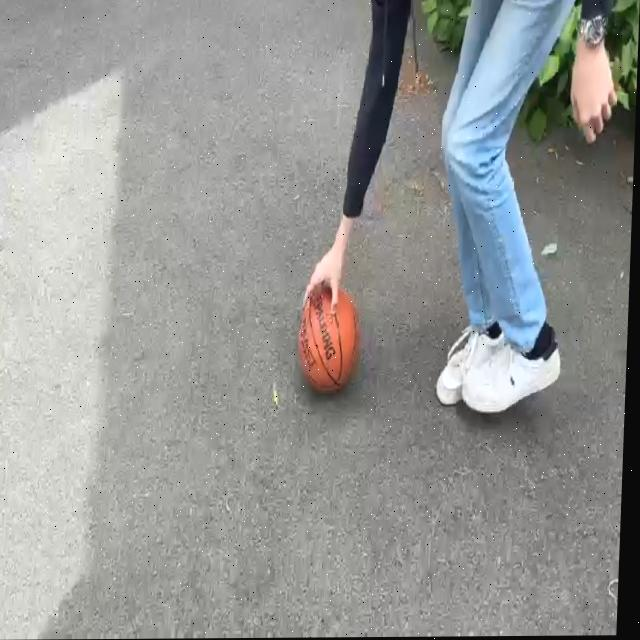Basketball: (298, 285, 362, 396)
